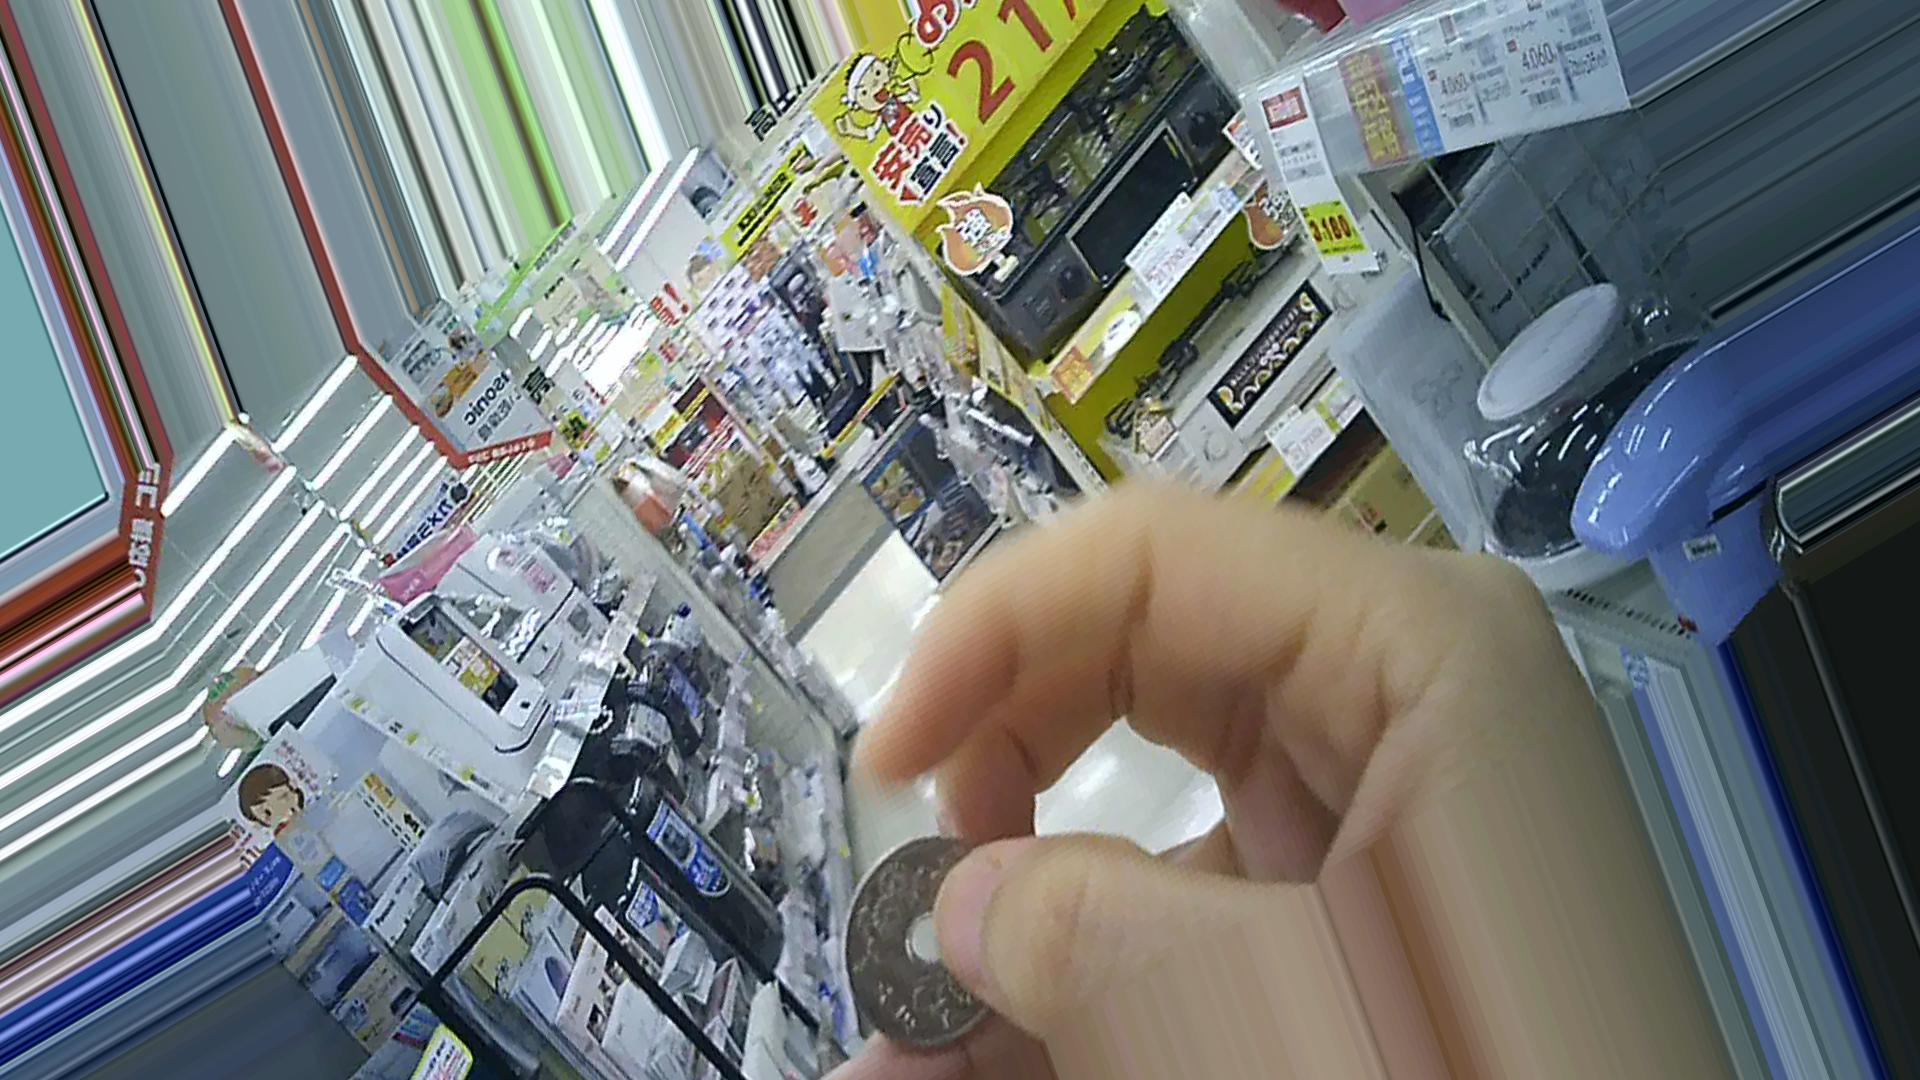50 Yen: (837, 828, 1015, 1048)
